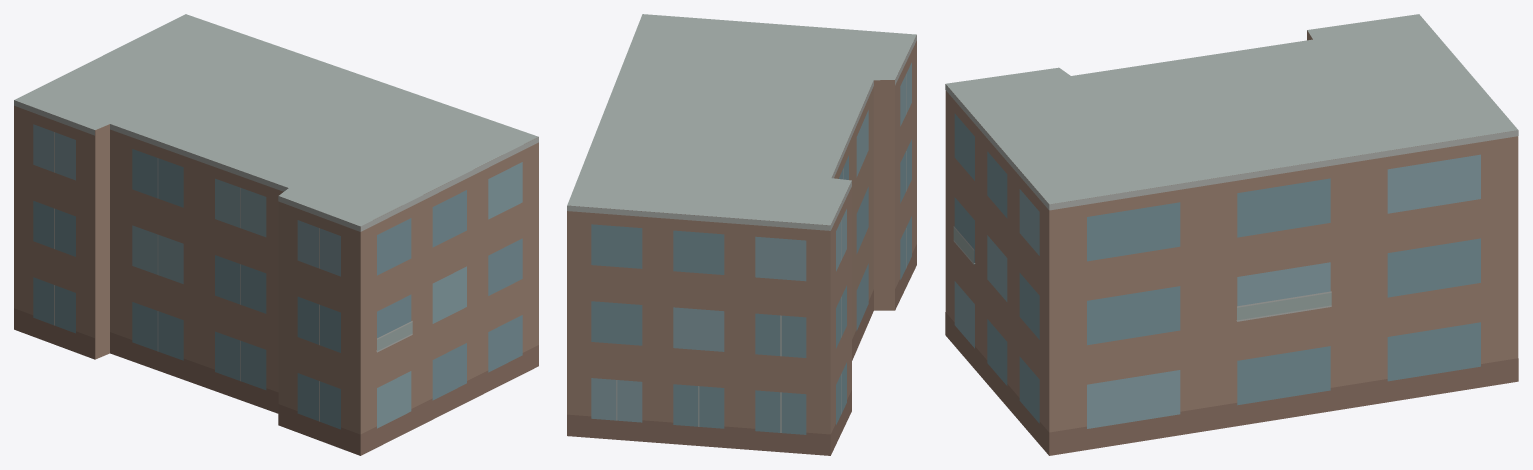
The model's file is survey-upis-32554790.glb.
3 views of the same model, side by side, from view 1: azimuth 30°, elevation 25°; view 2: azimuth 150°, elevation 25°; view 3: azimuth 270°, elevation 25° (orthographic). The views are drawn at different scales.
Parts seen in each view (by area): view 1: survey-upis-32554790.tmp; view 2: survey-upis-32554790.tmp; view 3: survey-upis-32554790.tmp.
Part boxes in pixels (x1,y1,x2,y2): survey-upis-32554790.tmp: (14,14,538,455); survey-upis-32554790.tmp: (567,14,916,455); survey-upis-32554790.tmp: (945,14,1518,455).
Bounding box in the file's own units: 16.41 × 10.1 × 20.87.
